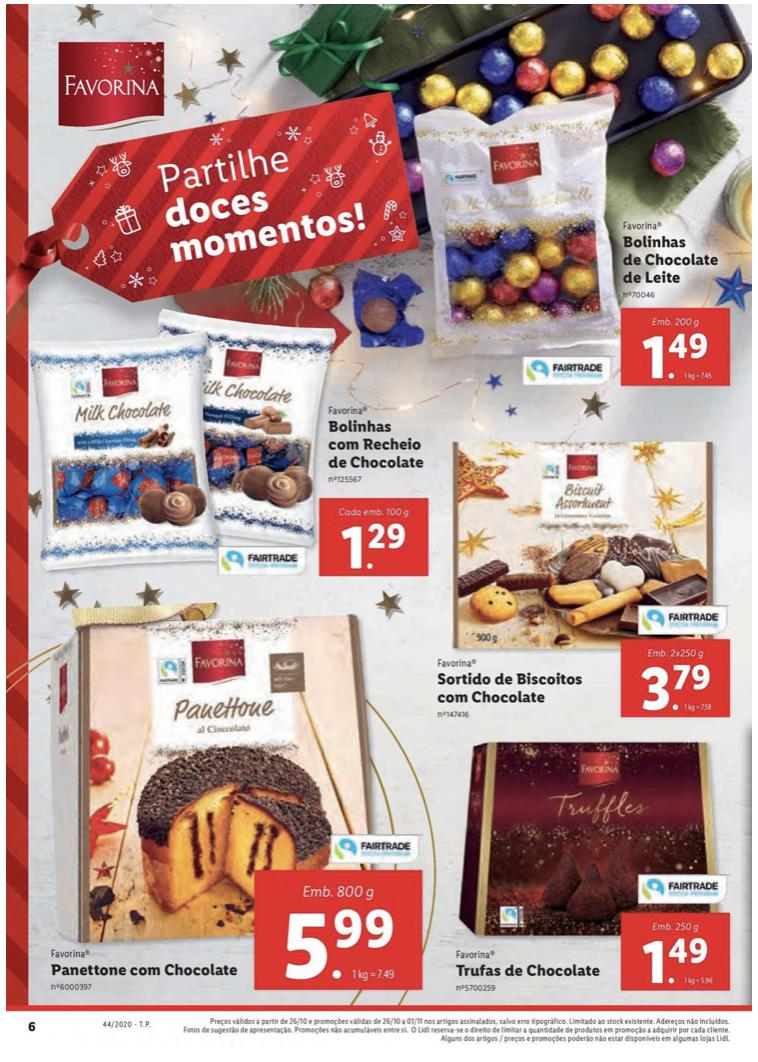name: (327, 416, 429, 472), (621, 232, 723, 287), (433, 673, 587, 708), (452, 958, 606, 985), (52, 960, 244, 981)
price: (283, 907, 396, 983), (337, 519, 416, 574), (638, 658, 713, 714), (642, 932, 710, 987), (642, 333, 716, 382)
product: (46, 598, 431, 1007), (31, 314, 435, 594), (429, 405, 741, 731), (429, 103, 746, 405), (431, 731, 741, 1007)
